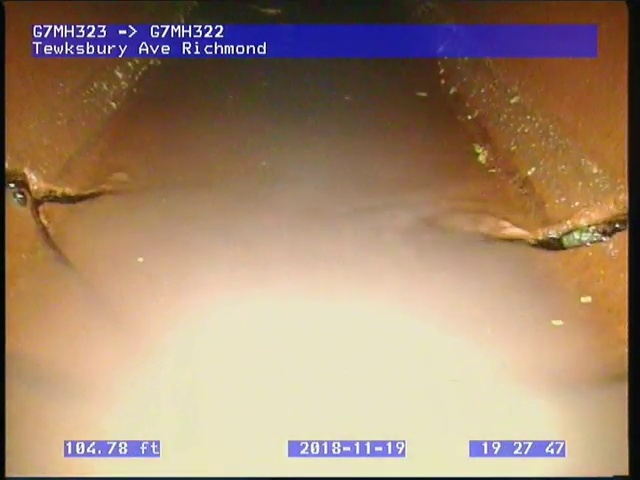crack: (3, 162, 127, 289), (514, 209, 627, 253)
